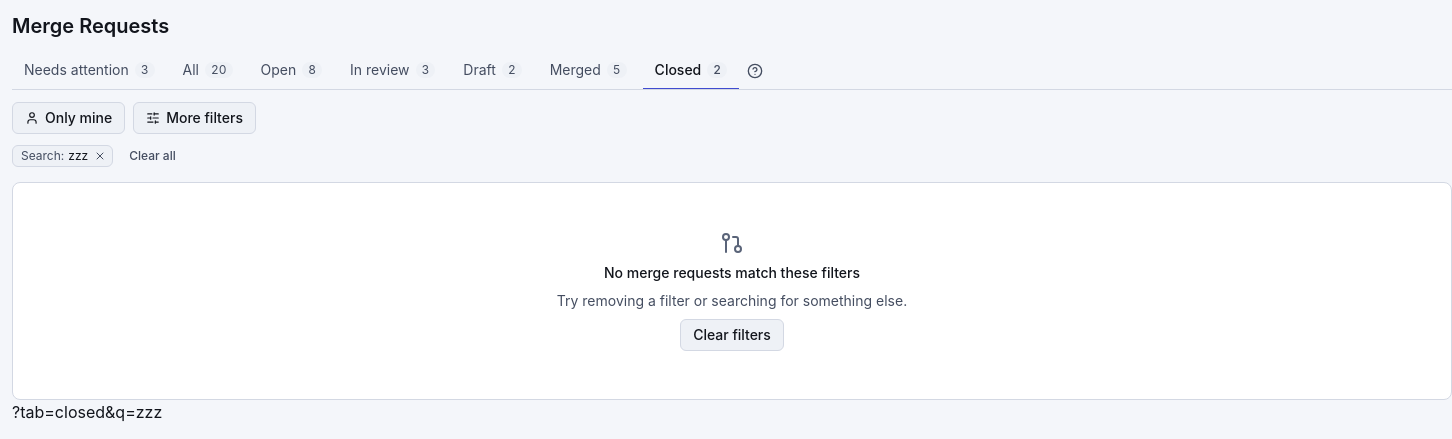
Test: MergeRequestsPage › shows an empty state with a clear action when filters match nothing
expect the heading "No merge requests match these filters" is shown: met, box 604,263 -> 860,283
Click the button "Clear filters".
click(732, 335)  # box 680,319 -> 784,351
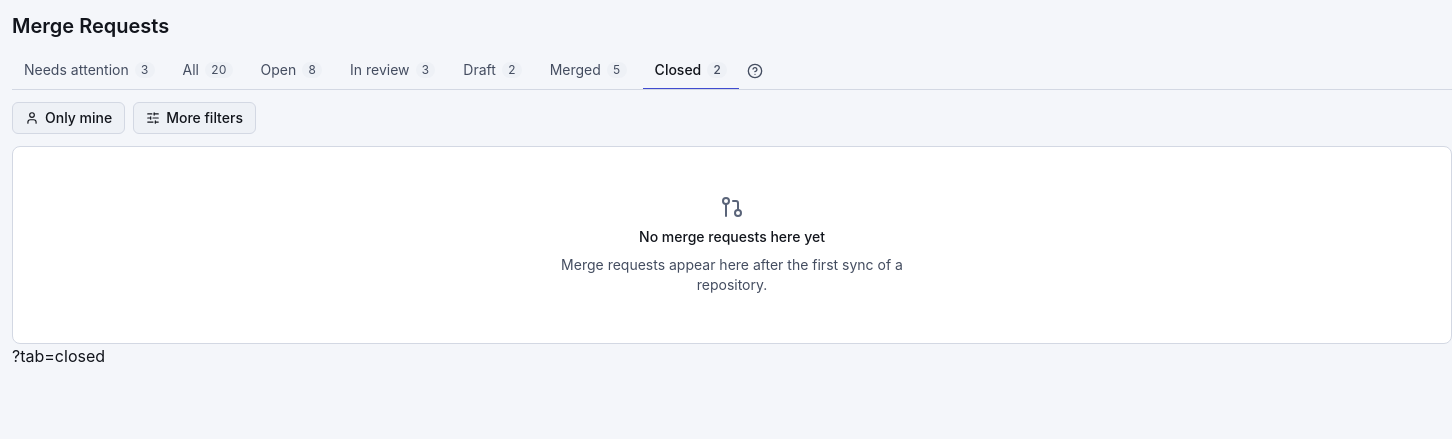
expect the text with test id "search" no longer shows "q=": met, box 12,346 -> 105,366
